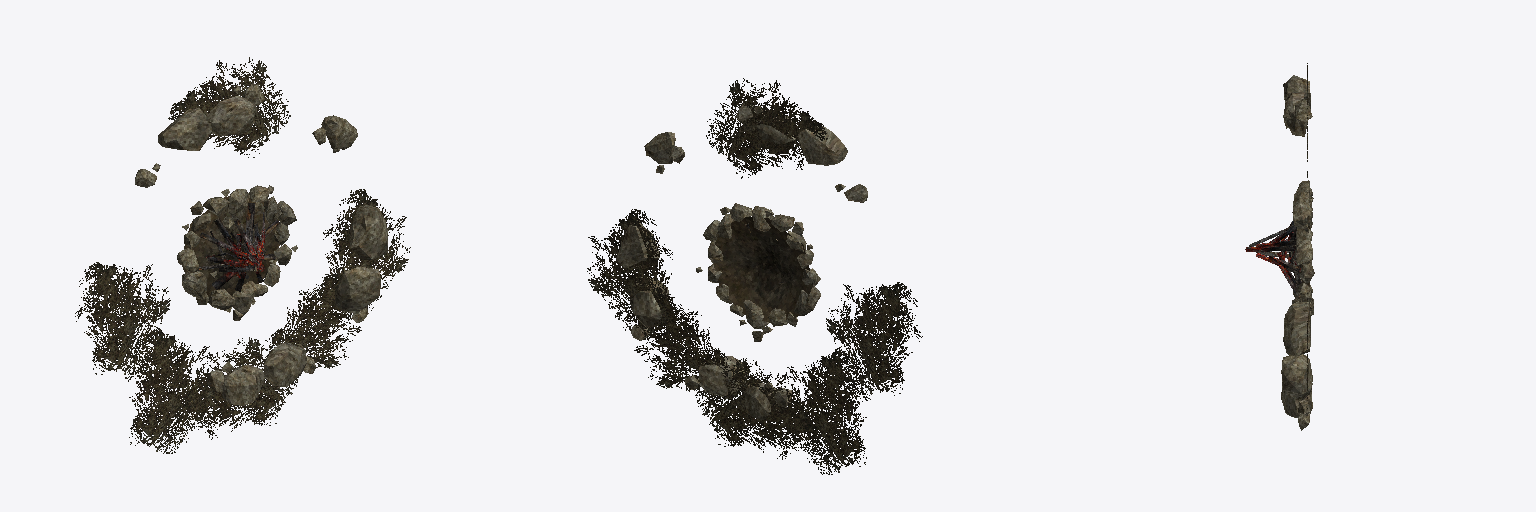
3 views of the same model, side by side, from view 1: azimuth 30°, elevation 25°; view 2: azimuth 150°, elevation 25°; view 3: azimuth 270°, elevation 25° (orthographic).
Parts seen in each view (by area): view 1: tdr_d_camp; view 2: tdr_d_camp; view 3: tdr_d_camp.
Part boxes in pixels (bbox=[...]): tdr_d_camp: bbox=[75, 57, 410, 453]; tdr_d_camp: bbox=[587, 78, 922, 474]; tdr_d_camp: bbox=[1245, 63, 1314, 430].
Size of the model in its own units: 1669 by 1810 by 295.
Materials: 2 (2 with a texture image).